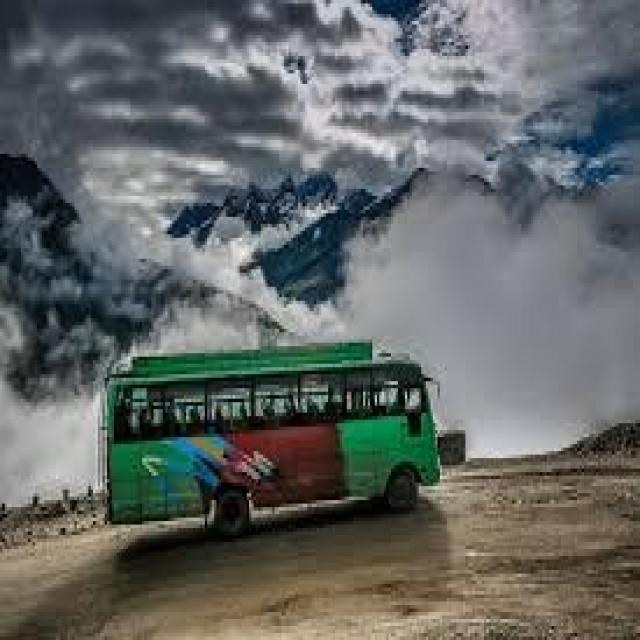bus: (92, 323, 458, 544)
